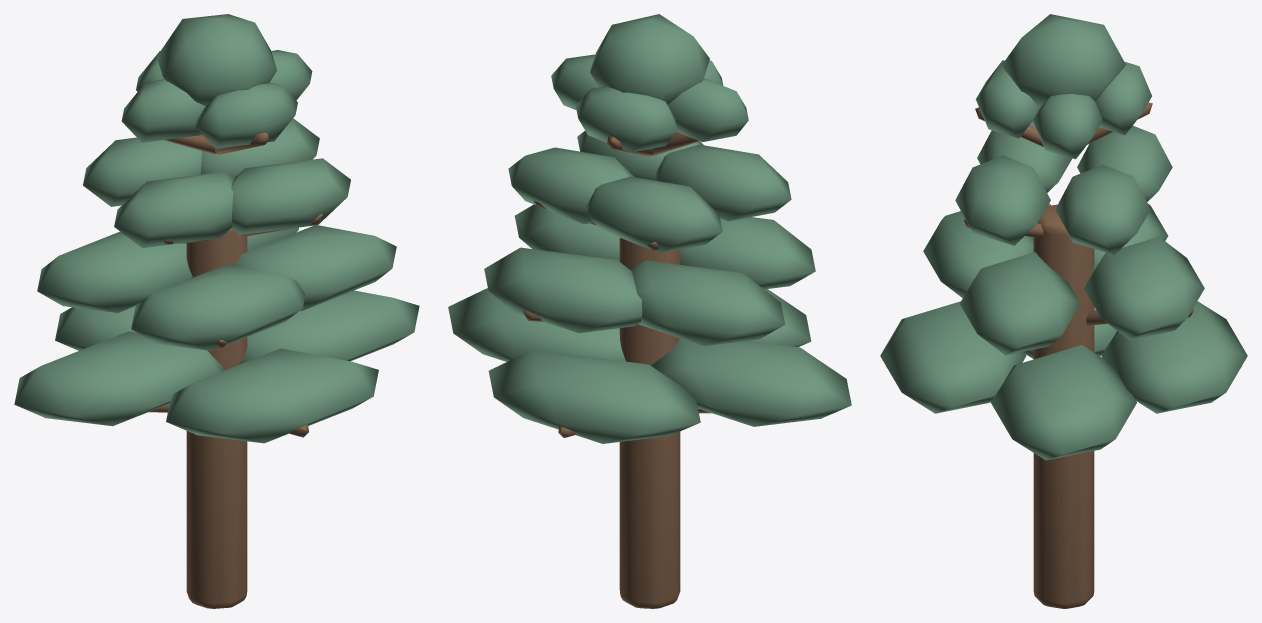
The model's file is org_metasequoia.glb.
The picture shows the model from 3 angles, left to right: view 1: azimuth 30°, elevation 25°; view 2: azimuth 150°, elevation 25°; view 3: azimuth 270°, elevation 25°; orthographic projection.
Visible parts, largest first — view 1: Foliage, Trunk; view 2: Foliage, Trunk; view 3: Foliage, Trunk.
Boxes of the visible parts, x1=… form: Foliage: x1=14, y1=14, x2=419, y2=443; Trunk: x1=136, y1=132, x2=322, y2=608; Foliage: x1=448, y1=14, x2=851, y2=443; Trunk: x1=523, y1=132, x2=711, y2=608; Foliage: x1=880, y1=14, x2=1247, y2=460; Trunk: x1=886, y1=102, x2=1241, y2=608.
Bounding box in the file's own units: 1.83 × 2.5 × 1.44.
